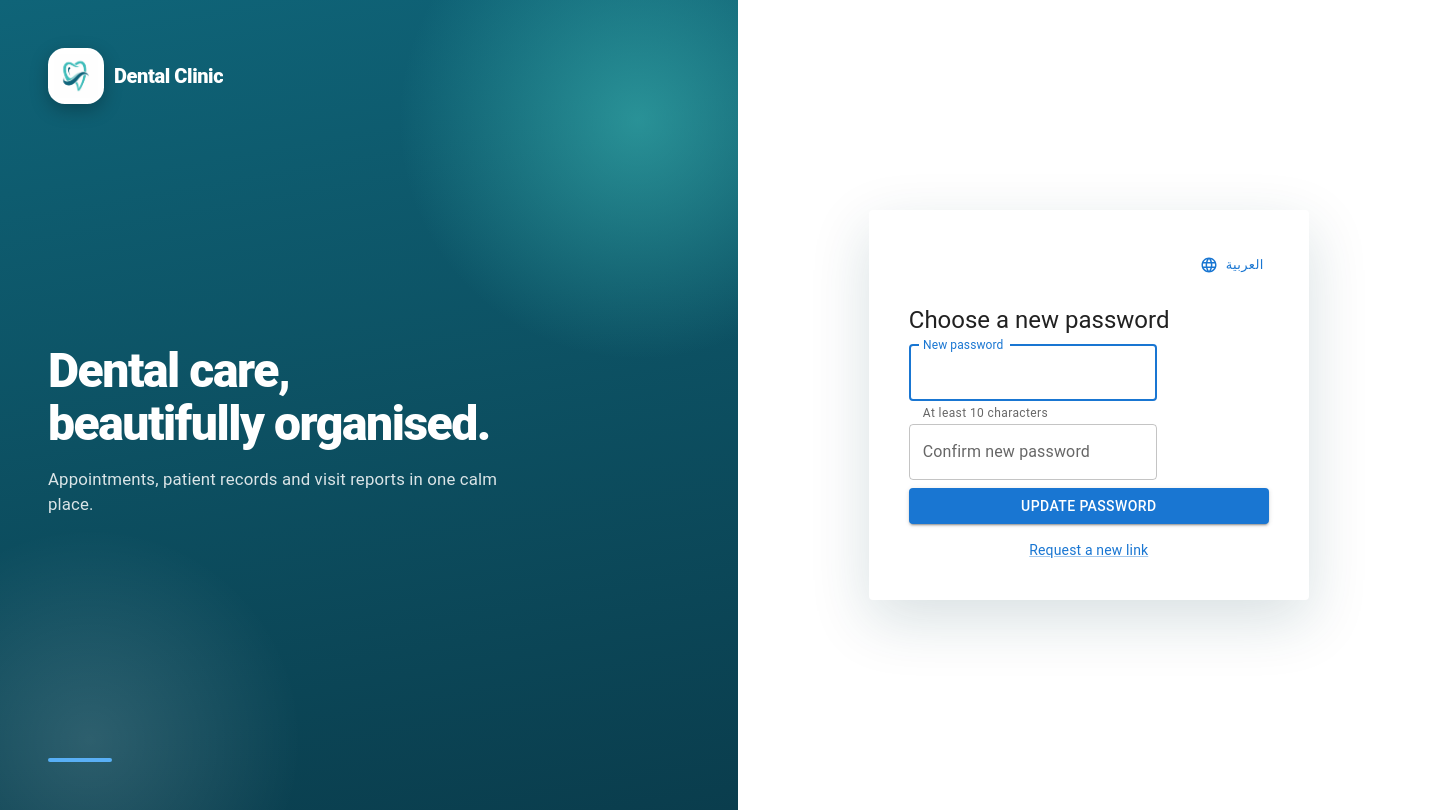
Test: password reset › rejects mismatched passwords locally and sends the token from the URL otherwise
Type "Reset-Pass-4242" into the password field labelled "New password".
click(1033, 373); type("Reset-Pass-4242")  # box [909,345,1157,401]
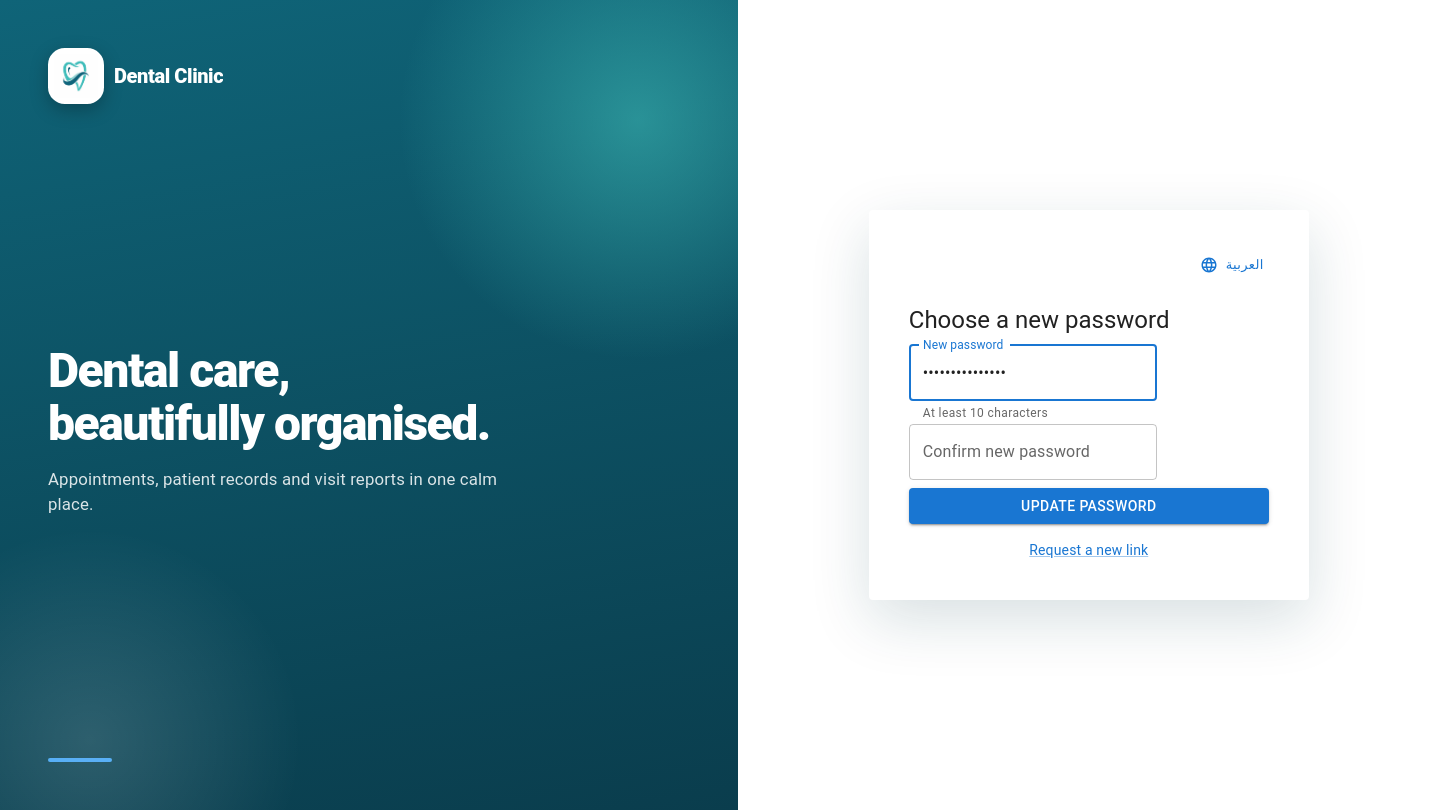
Type "Different-Pass-1" into the password field labelled "Confirm new password".
click(1033, 452); type("Different-Pass-1")  # box [909,424,1157,480]
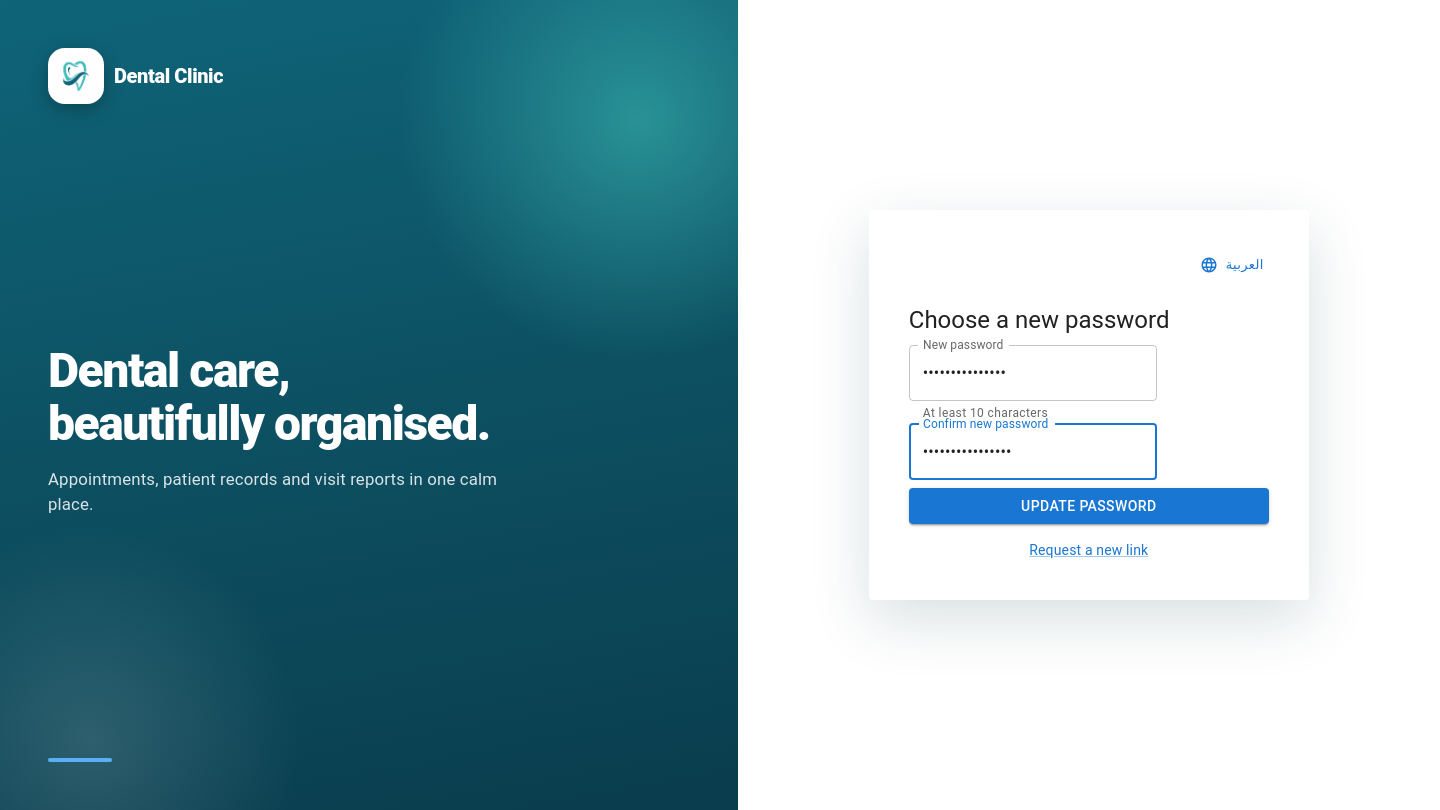
Click the button "Update password".
click(1089, 506)  # box [909,488,1269,524]
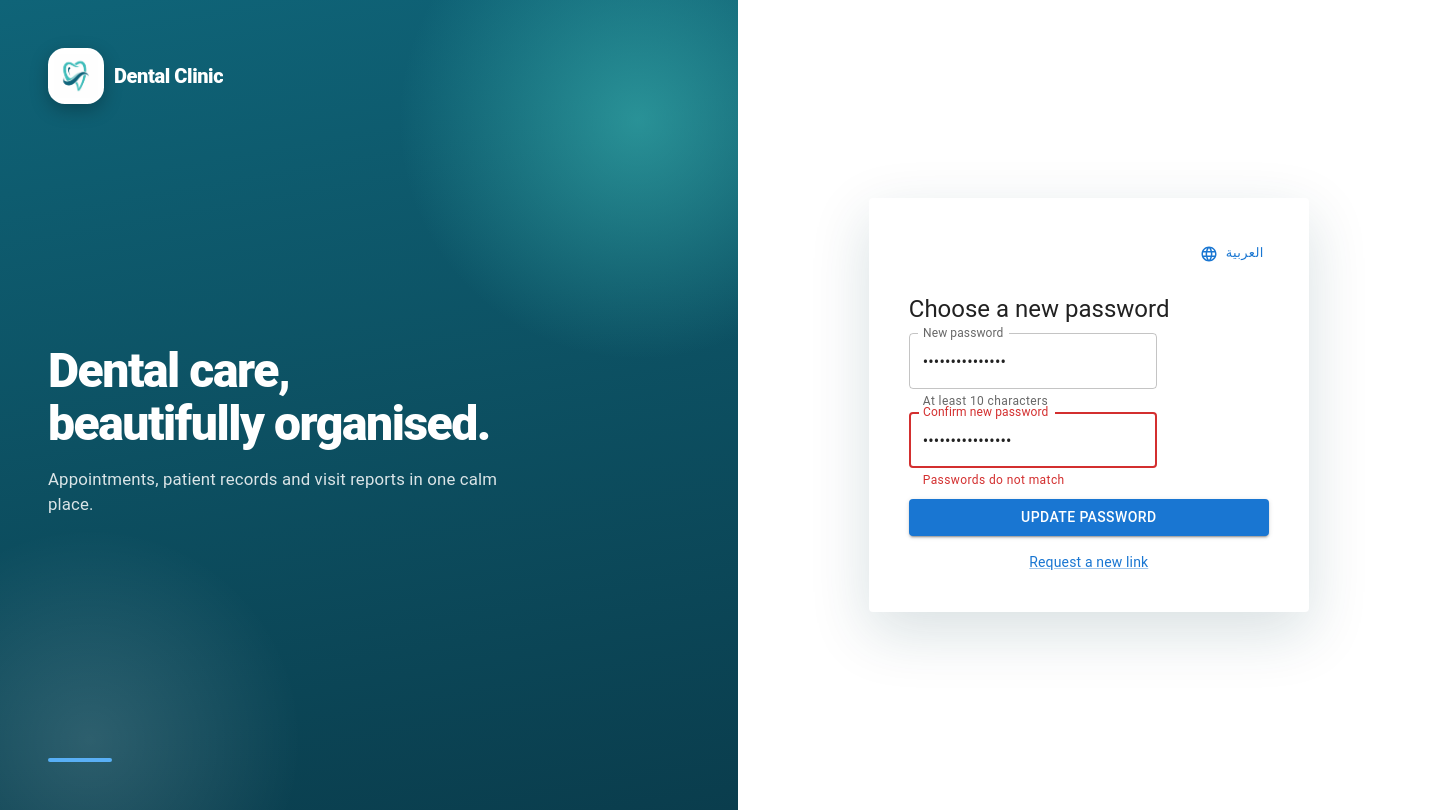
Expected: the text "Passwords do not match" is shown, [923,473,1065,487]
Type "Reset-Pass-4242" into the password field labelled "Confirm new password".
click(1033, 440); type("Reset-Pass-4242")  # box [909,412,1157,468]
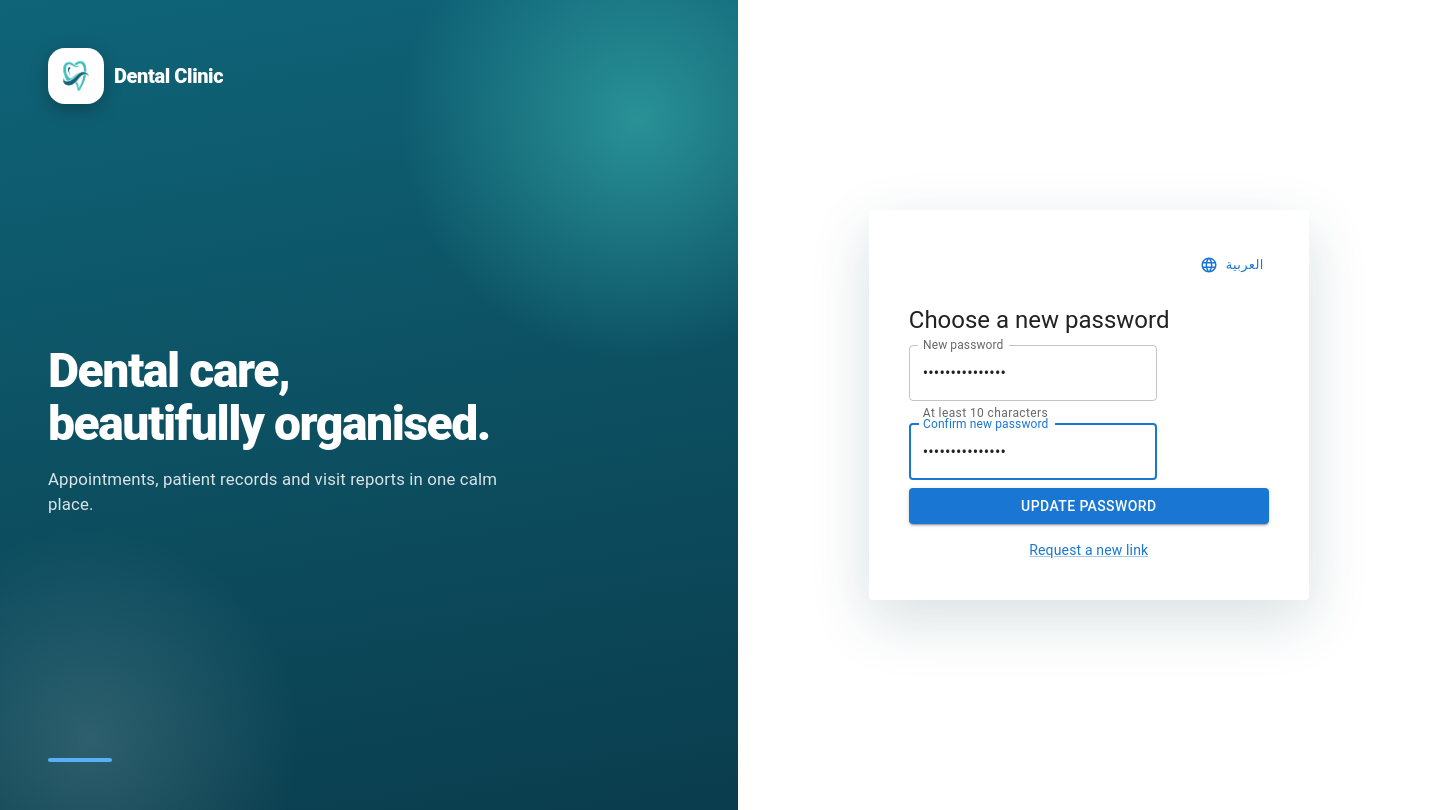
Click the button "Update password".
click(1089, 506)  # box [909,488,1269,524]
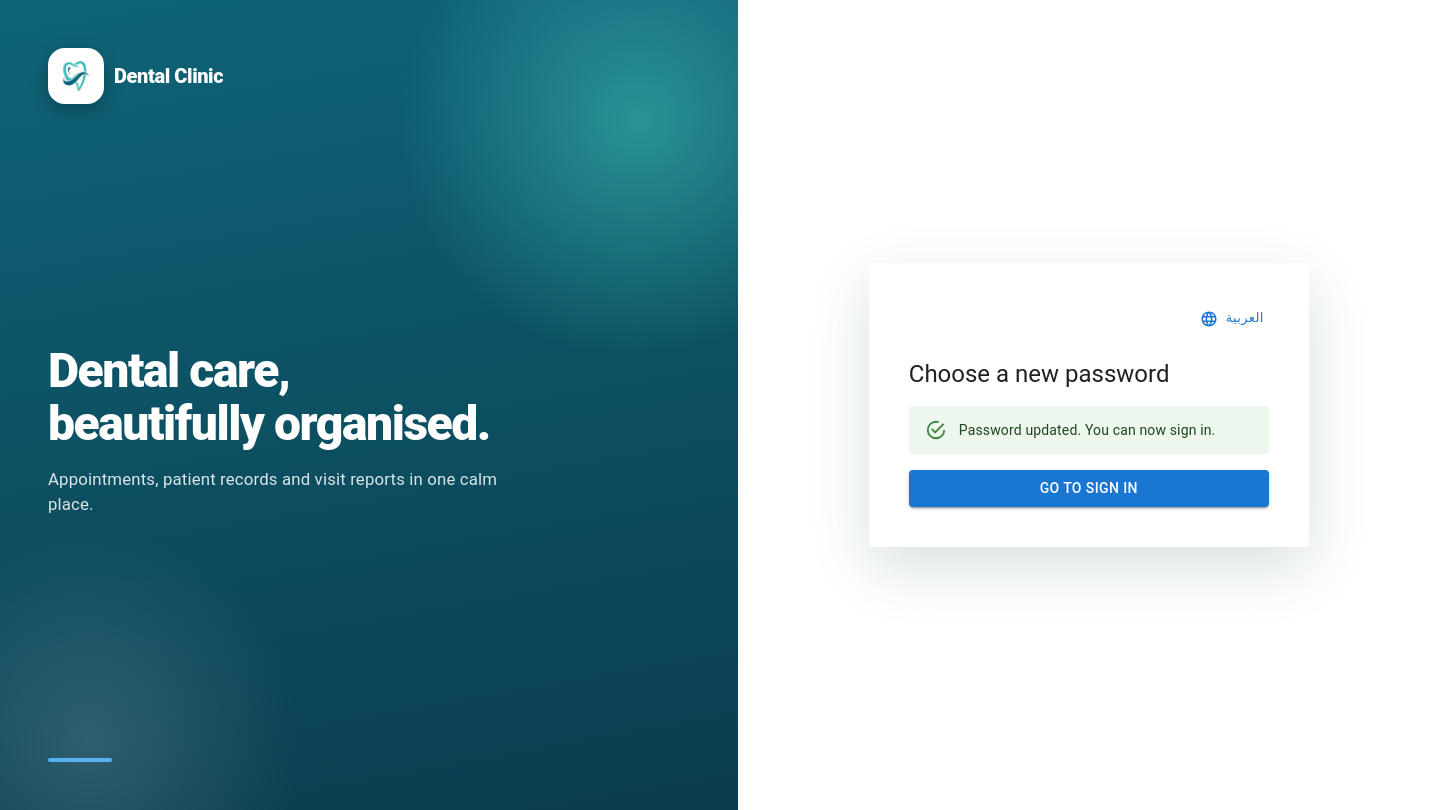
Expected: the text "Password updated. You can now sign in." is shown, [959,422,1216,438]
